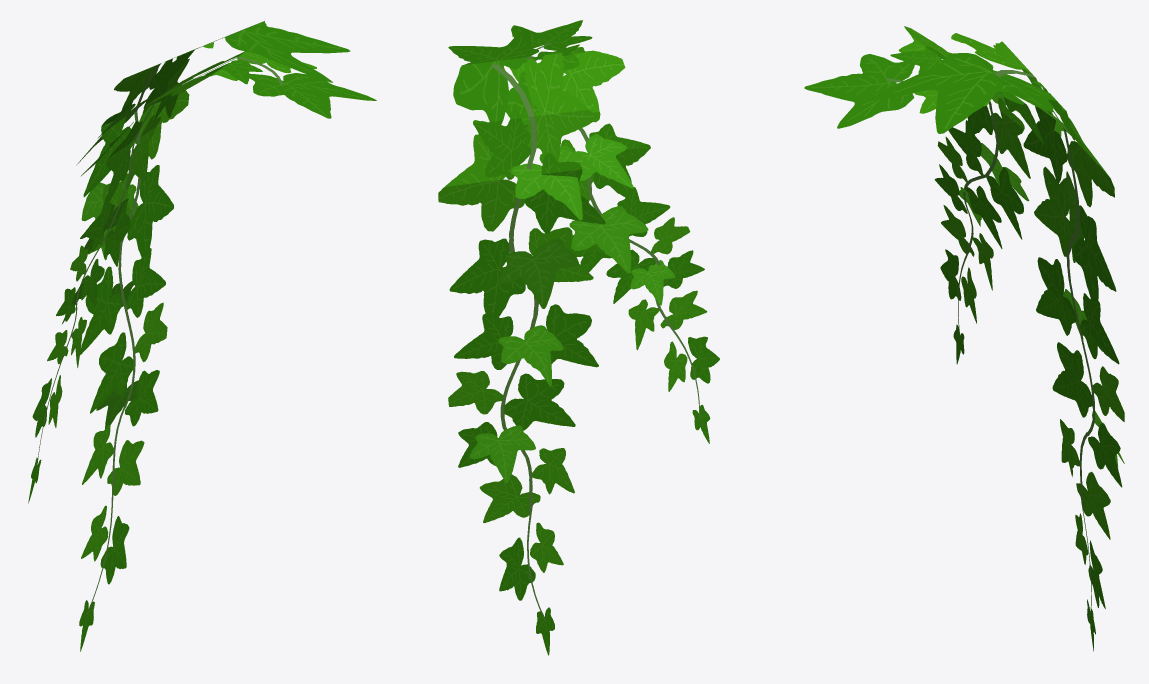
The model's file is PT_Ivy_05.fbx.
The picture shows the model from 3 angles, left to right: view 1: azimuth 30°, elevation 25°; view 2: azimuth 150°, elevation 25°; view 3: azimuth 270°, elevation 25°; orthographic projection. The views are drawn at different scales.
Parts seen in each view (by area): view 1: PT_Ivy_05; view 2: PT_Ivy_05; view 3: PT_Ivy_05.
Part boxes in pixels (bbox=[...]): PT_Ivy_05: bbox=[28, 21, 376, 651]; PT_Ivy_05: bbox=[438, 20, 719, 655]; PT_Ivy_05: bbox=[804, 26, 1124, 651].
Bounding box in the file's own units: 70.29 × 120 × 57.76.
